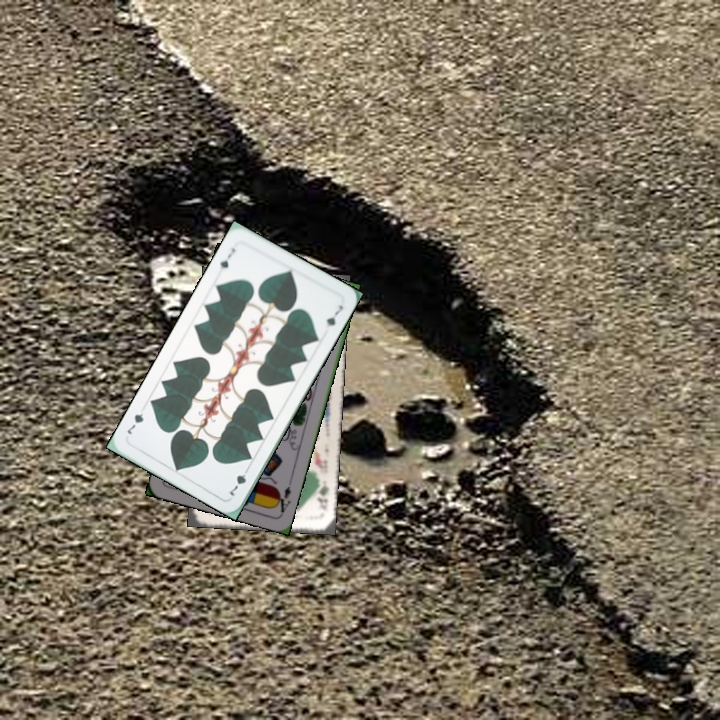EA: (271, 476, 295, 516)
G7: (223, 462, 252, 499), (216, 244, 238, 272)
GK: (313, 477, 331, 513)
